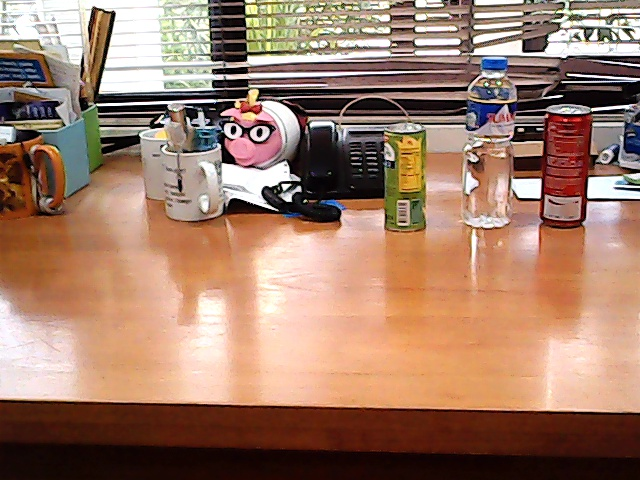Cola: (538, 103, 599, 233)
Pine Juice: (380, 122, 430, 232)
Summit Water: (456, 54, 524, 226)
